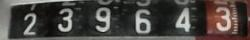digits: (127, 0, 156, 38), (53, 0, 80, 35), (91, 0, 115, 34), (214, 6, 231, 31), (174, 7, 191, 31), (22, 12, 36, 34)
